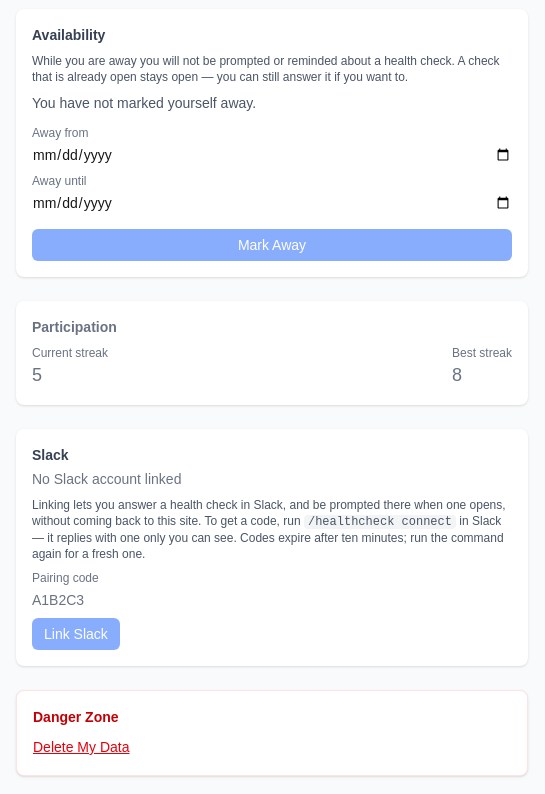
Test case: Profile Page › Requirements 2.2, 2.3, 2.4, 7.1, 7.2: Slack pairing-code input › shows linked status after a successful pairing without requiring reload
The width and height of the screenshot is (545, 794).
(page scrolled)
Type "ABC123" into the field labelled "Pairing code" at coordinates (272, 600), box [32,590,512,610]
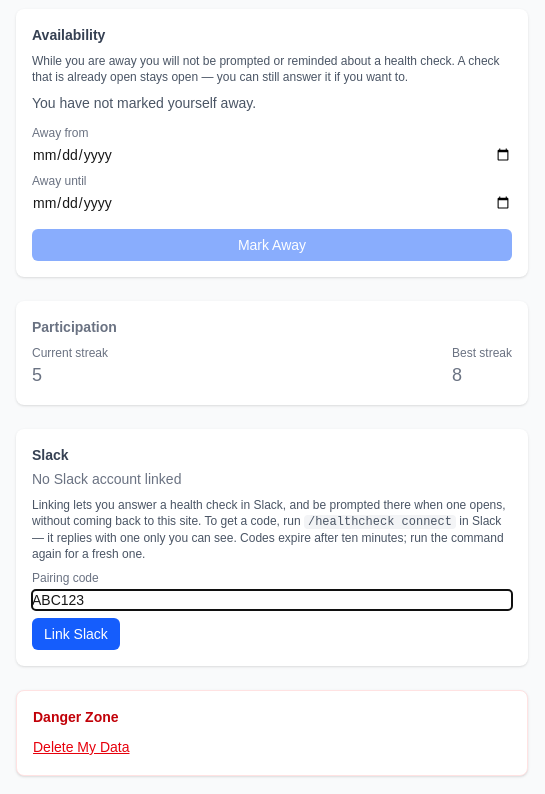
Click the button "Link Slack" at coordinates (76, 634), box [32,618,120,650]
(page scrolled)
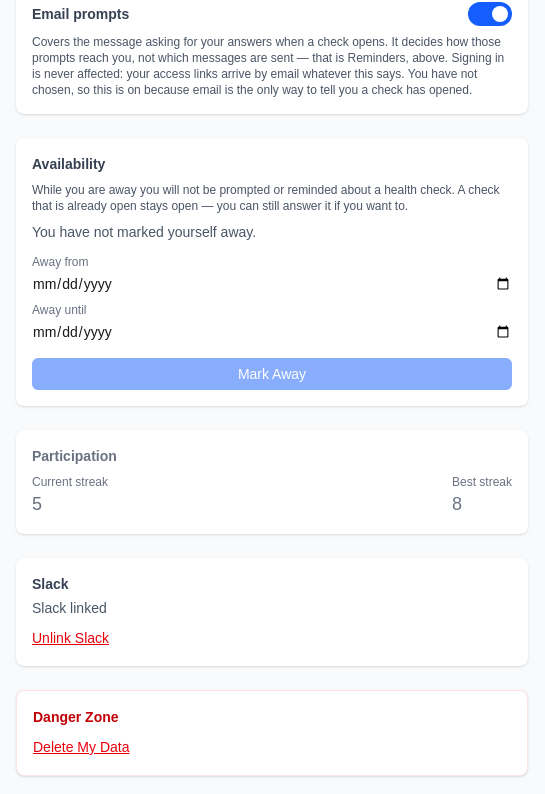
Expected: the text "Slack linked" is shown, [32,600,107,616]
Expected: the label labelled "Pairing code" is gone
